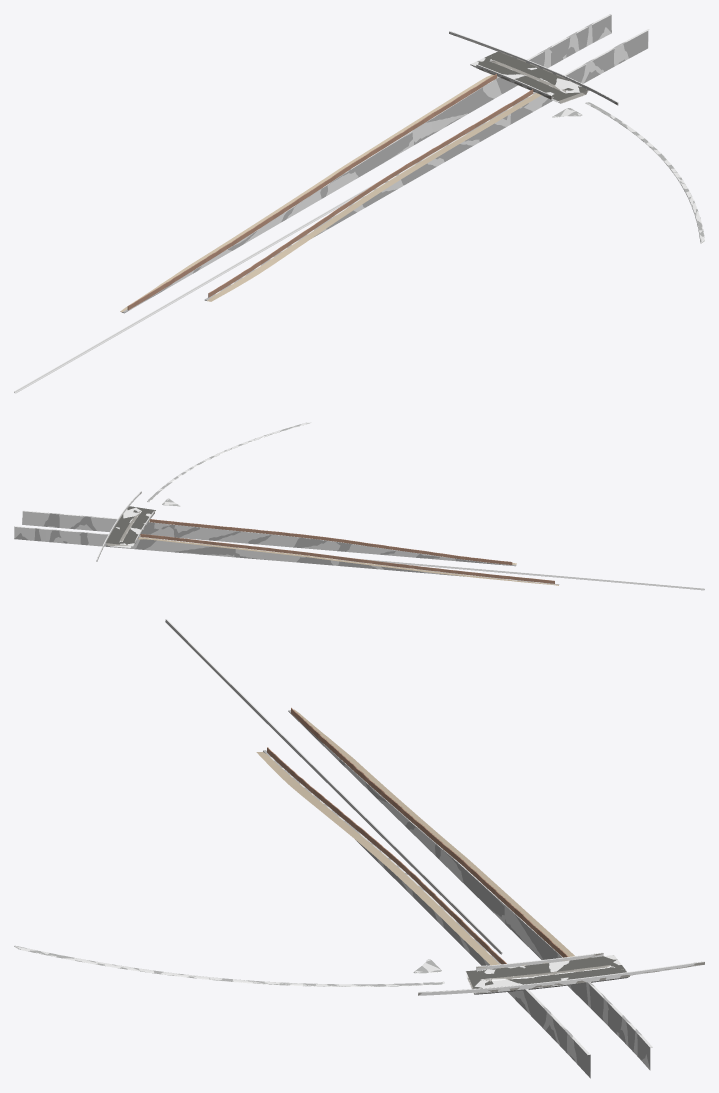
The model's file is sidewalk_mojave1.dae.
3 views of the same model, one above another, from view 1: azimuth 30°, elevation 25°; view 2: azimuth 150°, elevation 25°; view 3: azimuth 270°, elevation 25° (orthographic). The views are drawn at different scales.
Parts seen in each view (by area): view 1: Colmesh-1, sidewalk_mojave1_a1000, sidewalk_mojave1_a2000; view 2: Colmesh-1, sidewalk_mojave1_a1000, sidewalk_mojave1_a2000; view 3: Colmesh-1, sidewalk_mojave1_a1000, sidewalk_mojave1_a2000.
Part boxes in pixels (x1,y1,x2,y2): Colmesh-1: [14, 14, 704, 393]; sidewalk_mojave1_a1000: [123, 14, 704, 312]; sidewalk_mojave1_a2000: [166, 40, 616, 300]; Colmesh-1: [14, 422, 704, 590]; sidewalk_mojave1_a1000: [14, 422, 558, 584]; sidewalk_mojave1_a2000: [100, 491, 546, 582]; Colmesh-1: [14, 619, 704, 1078]; sidewalk_mojave1_a1000: [15, 710, 704, 1077]; sidewalk_mojave1_a2000: [263, 718, 701, 995].
Size of the model in its own units: 385 by 231 by 20.15.
